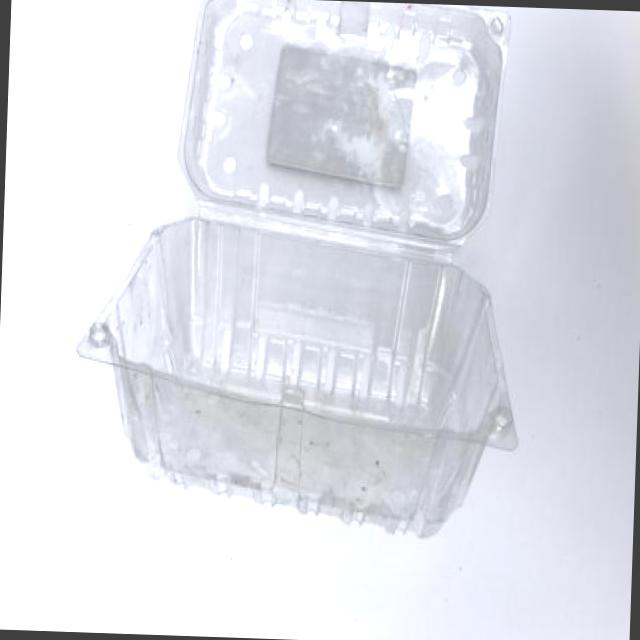Trash: (101, 212, 526, 542), (168, 1, 514, 243)
